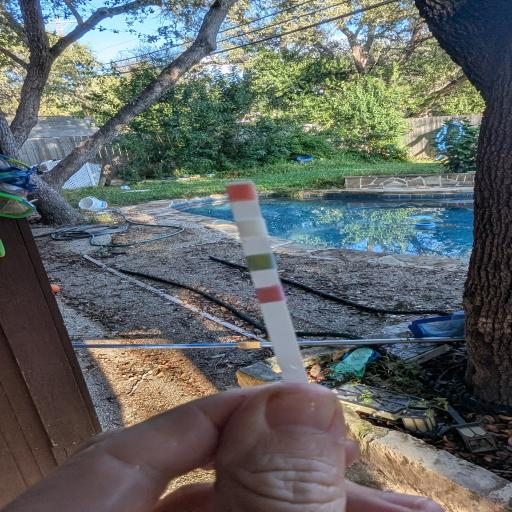strip: (222, 180, 311, 383)
